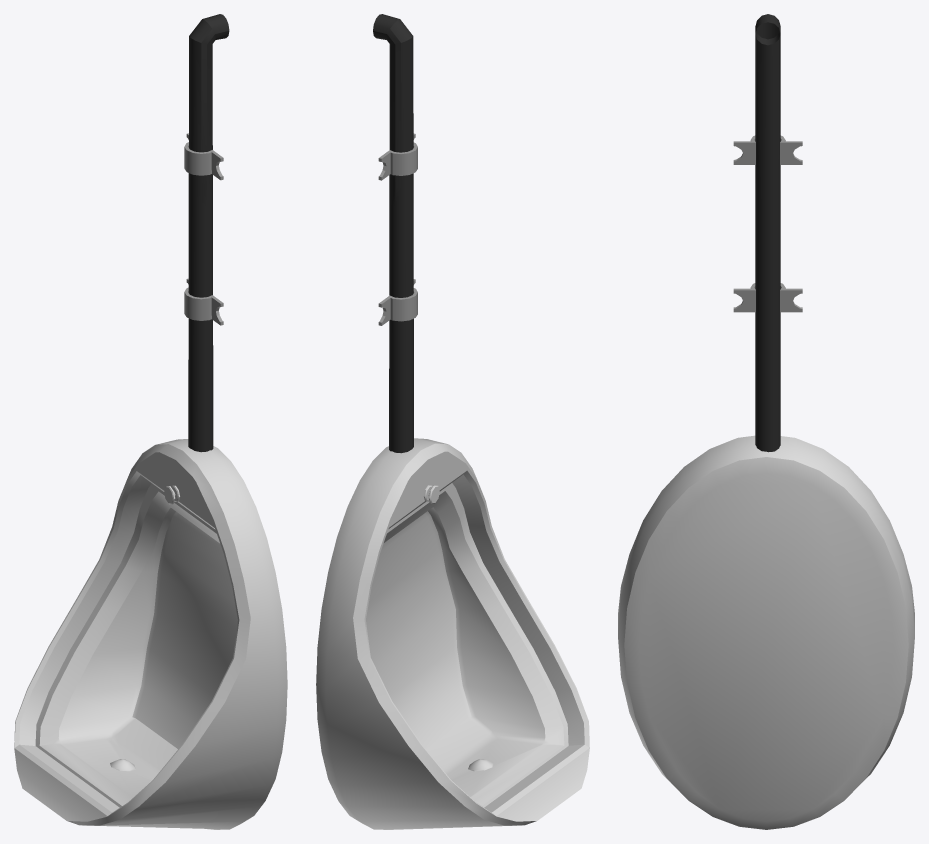
File: toilet-brush.glb
The picture shows the model from 3 angles, left to right: view 1: azimuth 30°, elevation 25°; view 2: azimuth 150°, elevation 25°; view 3: azimuth 270°, elevation 25°; orthographic projection.
Parts seen in each view (by area): view 1: Object_44, Object_45; view 2: Object_44, Object_45; view 3: Object_44, Object_45.
Boxes of the visible parts, x1=… form: Object_44: x1=14, y1=14, x2=287, y2=829; Object_45: x1=110, y1=133, x2=223, y2=771; Object_44: x1=316, y1=14, x2=589, y2=829; Object_45: x1=378, y1=133, x2=493, y2=771; Object_44: x1=618, y1=14, x2=914, y2=829; Object_45: x1=733, y1=135, x2=802, y2=312.
Bounding box in the file's own units: 0.5952 × 2.54 × 0.8395.
2 materials, 2 textured.
